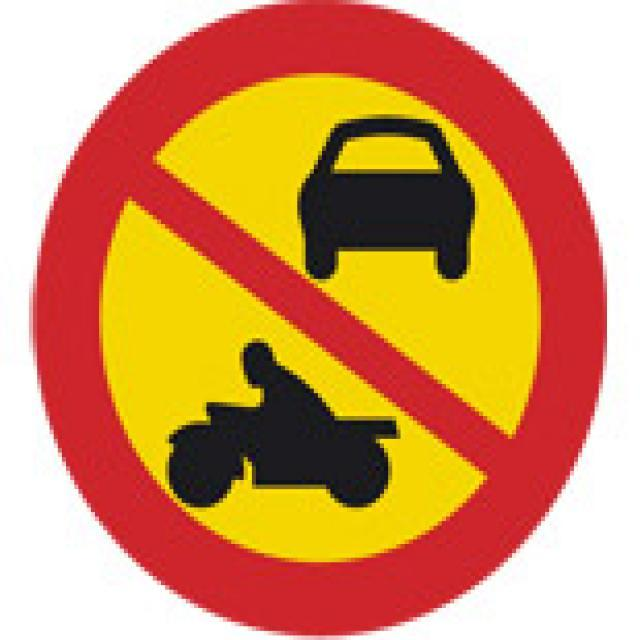No entry for motor vehicles: (27, 0, 609, 640)
